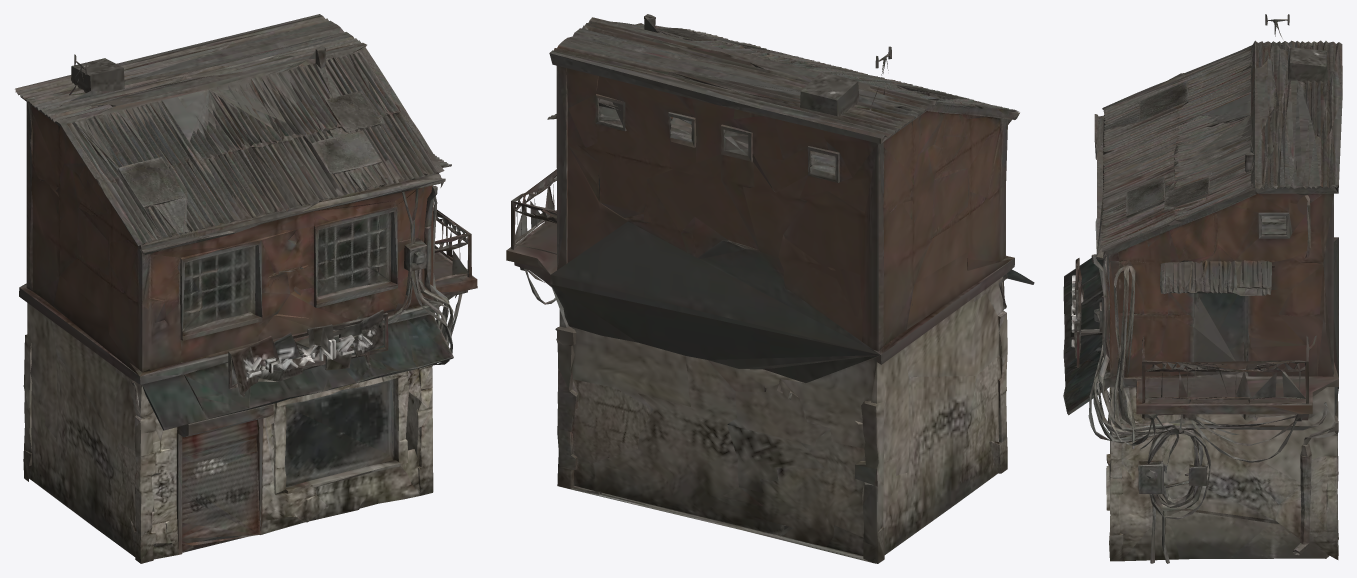
The model's file is coronetshop.glb.
3 views of the same model, side by side, from view 1: azimuth 30°, elevation 25°; view 2: azimuth 150°, elevation 25°; view 3: azimuth 270°, elevation 25° (orthographic). The views are drawn at different scales.
Parts seen in each view (by area): view 1: coronetshop-centred; view 2: coronetshop-centred; view 3: coronetshop-centred.
Boxes of the visible parts, box(x1,y1,x2,y2) form: coronetshop-centred: box(15, 14, 477, 563); coronetshop-centred: box(506, 14, 1034, 563); coronetshop-centred: box(1063, 14, 1342, 563).
Bounding box in the file's own units: 8.66 × 10 × 6.
1 material, 1 textured.
